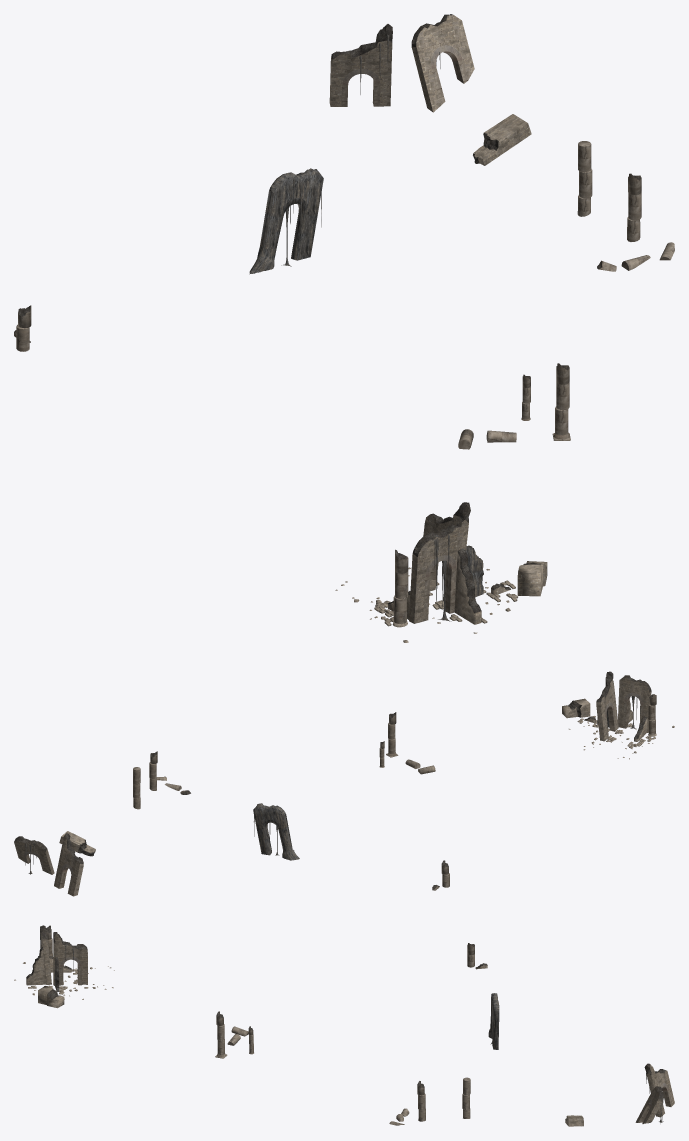
3 views of the same model, one above another, from view 1: azimuth 30°, elevation 25°; view 2: azimuth 150°, elevation 25°; view 3: azimuth 270°, elevation 25° (orthographic). The views are drawn at different scales.
Parts seen in each view (by area): view 1: Material_#104, Material_#103; view 2: Material_#104, Material_#103; view 3: Material_#104, Material_#103.
Boxes of the visible parts, left/top/right/bottom form: Material_#104: left=14, top=15, right=674, bottom=642; Material_#103: left=14, top=14, right=641, bottom=621; Material_#104: left=14, top=678, right=674, bottom=896; Material_#103: left=14, top=671, right=656, bottom=888; Material_#104: left=14, top=930, right=674, bottom=1126; Material_#103: left=26, top=925, right=665, bottom=1123.
Bounding box in the file's own units: 168 × 28 × 273.
